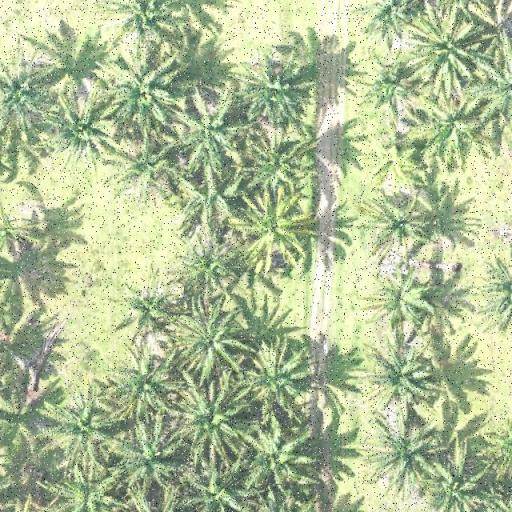Ganoderma: (250, 204, 300, 252), (372, 142, 414, 181)
